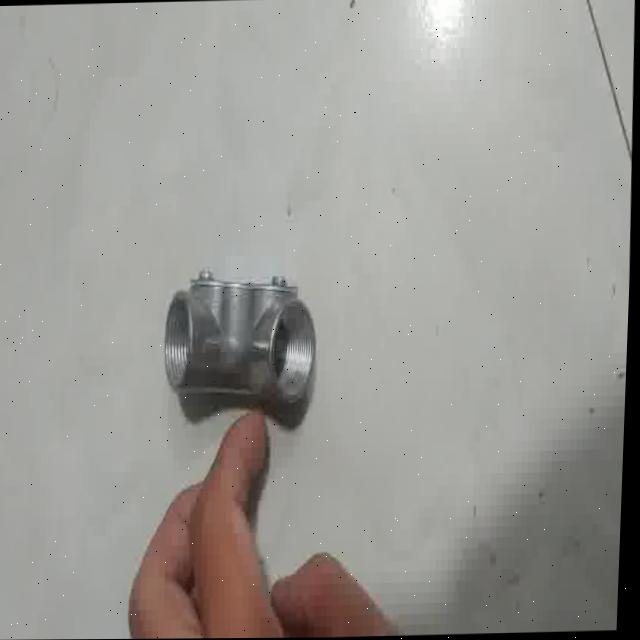Dry: (156, 268, 320, 418)
